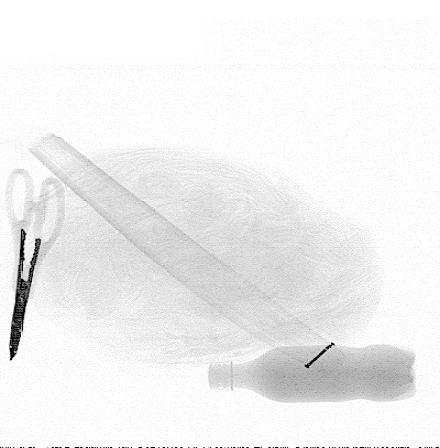Scissors: (4, 165, 66, 365)
